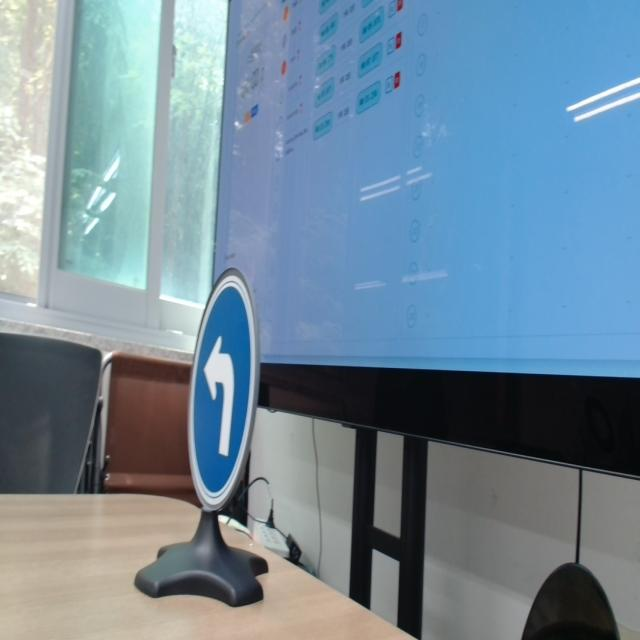left_direction: (182, 280, 258, 512)
